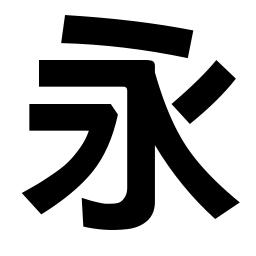D: (58, 12, 196, 48)
HSZ: (117, 55, 157, 97)
Hs: (35, 55, 81, 91)
Ne: (190, 174, 243, 221)
PNc: (160, 100, 200, 142)
PZe: (20, 176, 70, 216)
Ps: (196, 59, 240, 97)
SG: (79, 193, 160, 234)
Sm: (124, 147, 156, 188)
TPZ: (82, 101, 120, 144)
Ts: (25, 100, 57, 134)
